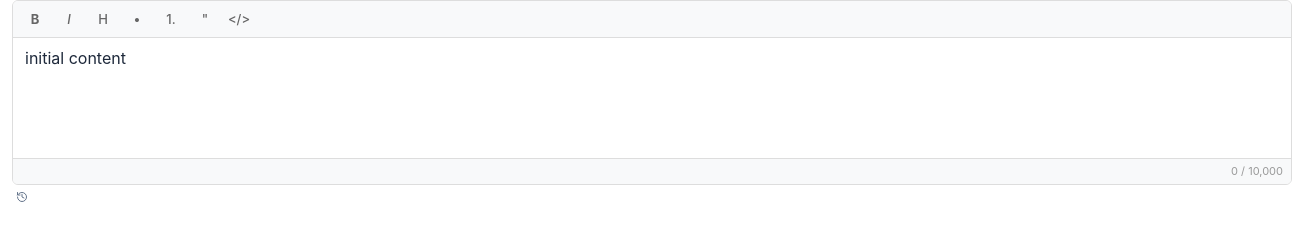
Test: InlineNoteEditor — audit history (NY16–NY22) › NY21: fetch error shows error message
Click the button with test id "history-toggle-btn": (22, 196) [12, 188, 32, 204]
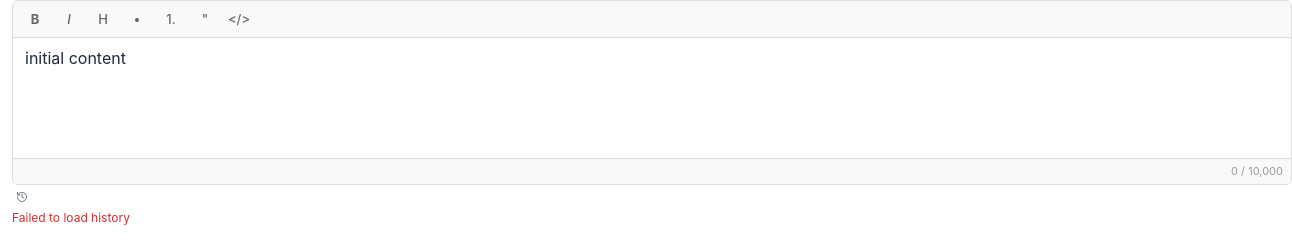
Result: the text "Failed to load history" is shown at [12, 210, 130, 224]
